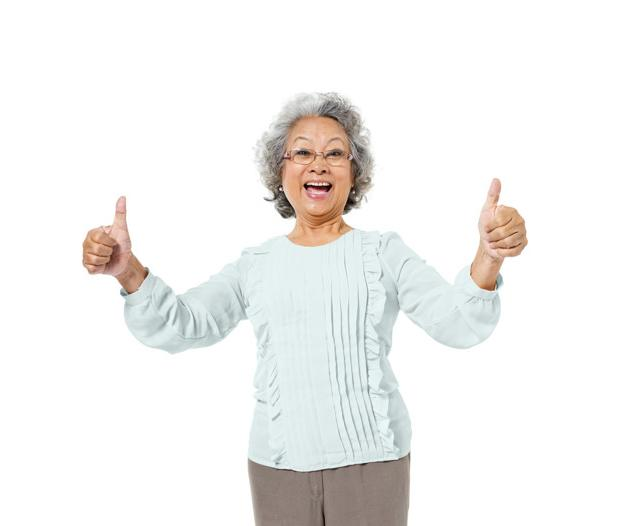thumbsup: (82, 195, 128, 275), (484, 177, 528, 258)
